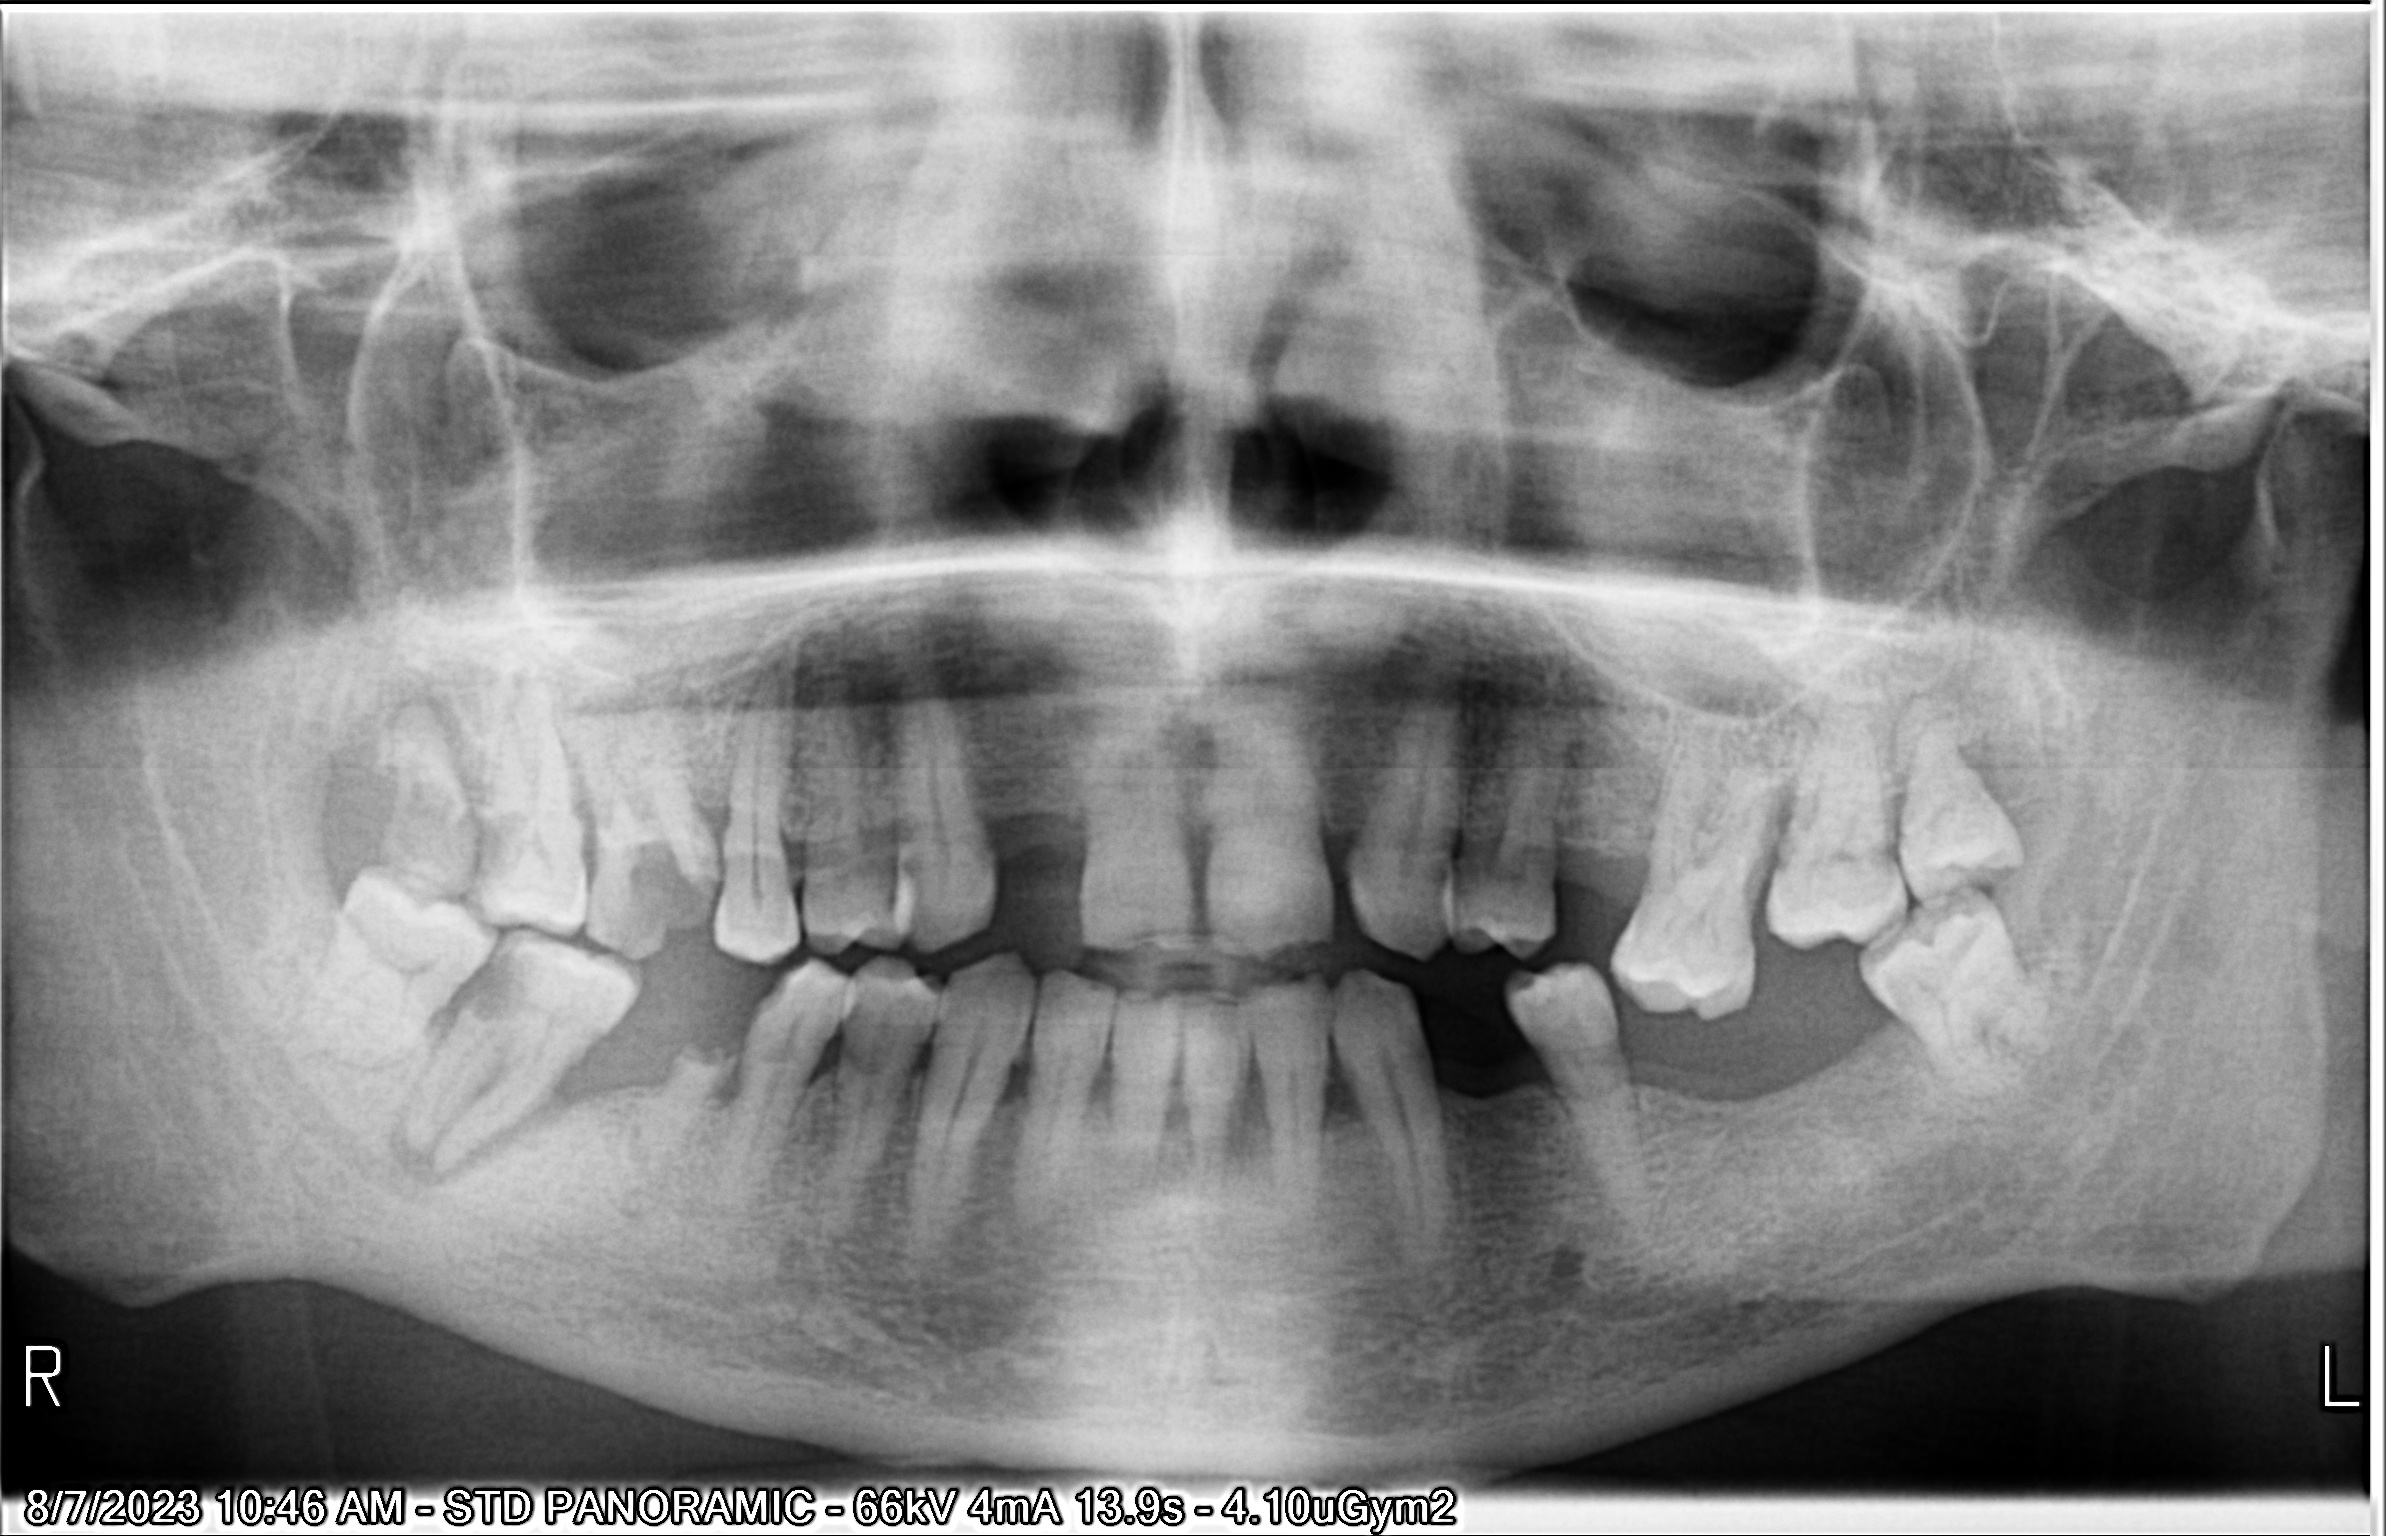API: (367, 1117, 471, 1209)
BON: (490, 1087, 595, 1169), (1762, 786, 1784, 880), (1325, 1070, 1358, 1127), (1250, 1094, 1273, 1153), (1170, 1087, 1188, 1143), (1016, 1063, 1026, 1115), (1103, 1065, 1113, 1117), (831, 1045, 843, 1089), (913, 1052, 930, 1080)
CAR: (610, 844, 711, 962), (395, 783, 468, 885), (464, 955, 537, 1035), (477, 812, 532, 873), (1254, 922, 1346, 953), (1892, 861, 2014, 882), (1127, 922, 1183, 967), (1932, 943, 1989, 978)
ROT: (650, 1026, 727, 1193)
